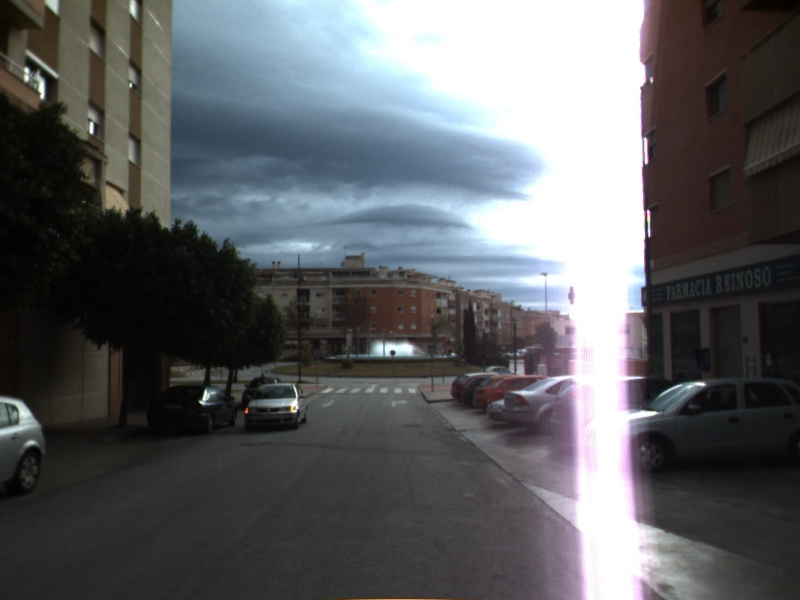RIGHT: (389, 397, 409, 409)
